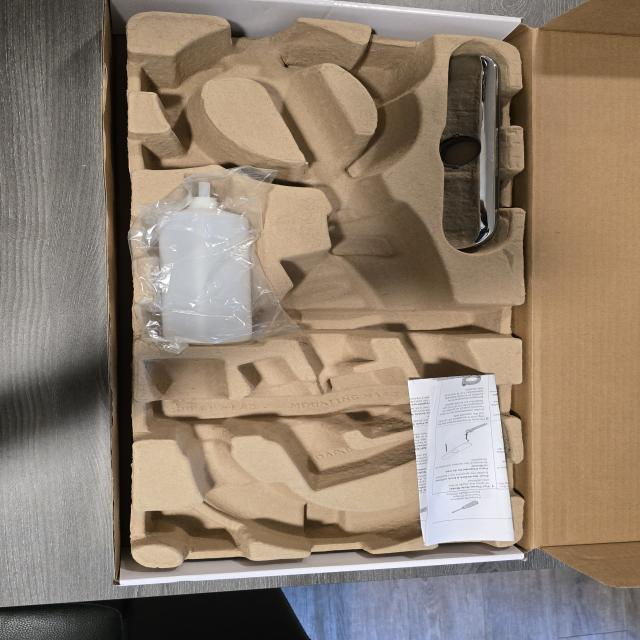1m: (147, 16, 506, 545)
2m: (239, 358, 432, 488)
3: (155, 181, 252, 346)
4: (441, 52, 500, 247)
5m: (358, 51, 428, 96)
6m: (142, 46, 228, 109)
7m: (146, 120, 266, 174)
8: (404, 373, 517, 548)
